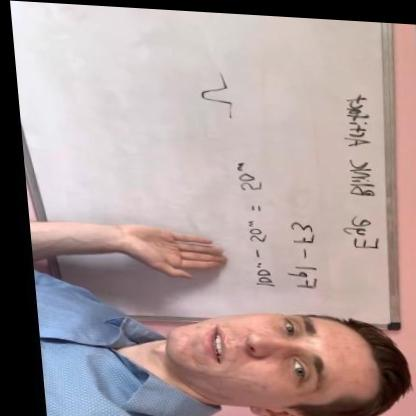Handwritten text: (315, 81, 381, 246), (278, 268, 318, 291), (281, 229, 316, 242)
Lecturer: (18, 255, 411, 416)
Whiteboard: (15, 4, 398, 327)
